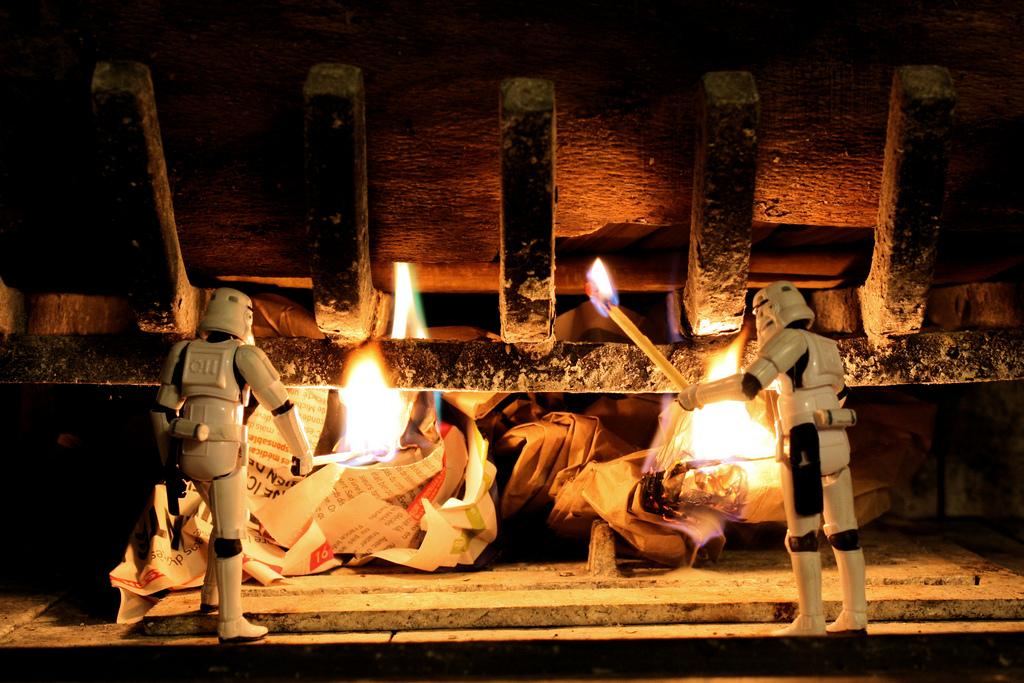fire: (328, 365, 407, 458), (677, 405, 773, 480), (395, 258, 422, 345), (582, 262, 618, 325)
